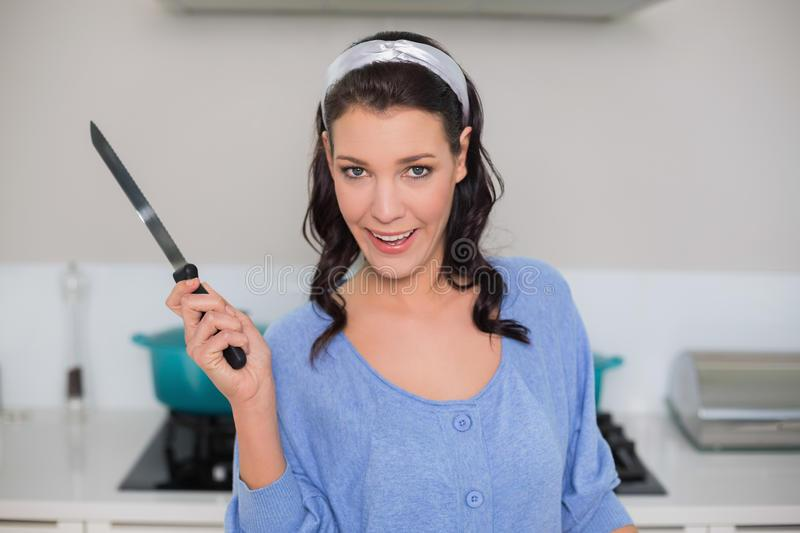criminal: (89, 28, 638, 533)
weapon: (88, 118, 249, 372)
